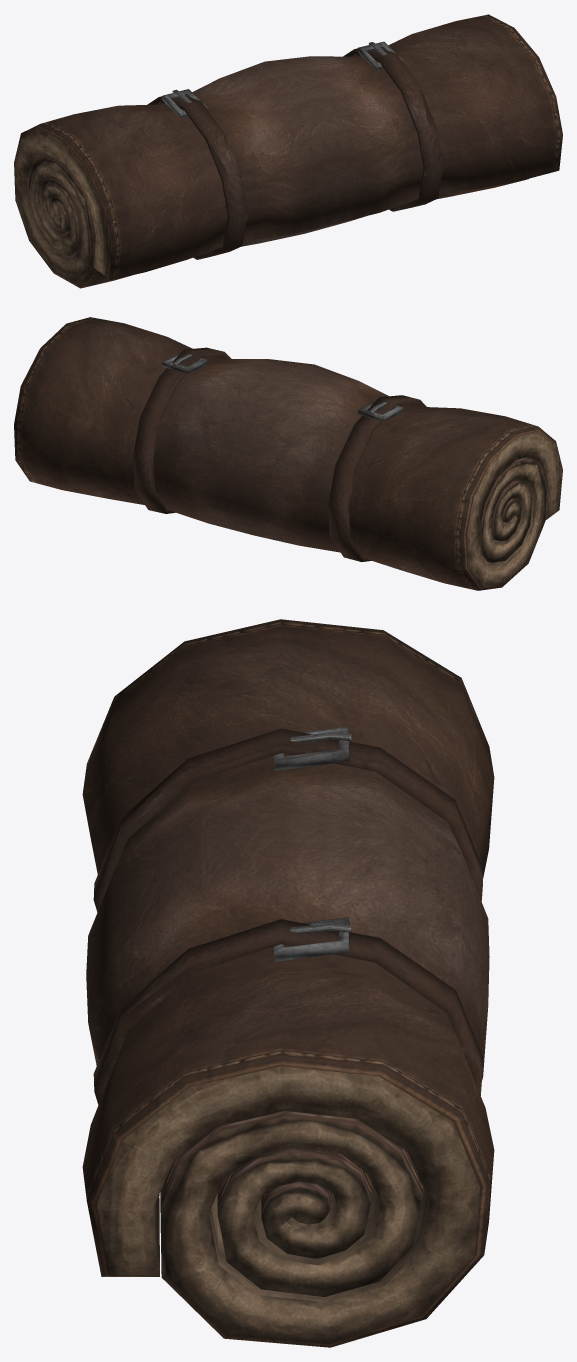
File: Bedroll02.fbx
3 renders of one model, top to bottom at view 1: azimuth 30°, elevation 25°; view 2: azimuth 150°, elevation 25°; view 3: azimuth 270°, elevation 25°, orthographic. The views are drawn at different scales.
Parts seen in each view (by area): view 1: Bedroll02_LOD0; view 2: Bedroll02_LOD0; view 3: Bedroll02_LOD0.
Boxes of the visible parts, x1,y1,x2,y2 form: Bedroll02_LOD0: (14, 14, 562, 288); Bedroll02_LOD0: (14, 317, 562, 590); Bedroll02_LOD0: (82, 619, 494, 1347).
Size of what is drawn, in the model's own units: 0.8002 by 0.2595 by 0.315.
